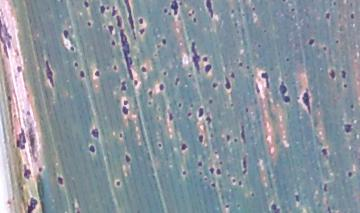tarspot: (115, 11, 132, 80), (1, 18, 14, 61), (187, 38, 202, 75), (26, 123, 40, 161), (43, 57, 58, 90), (277, 79, 293, 105), (123, 1, 135, 31), (300, 87, 312, 116), (15, 125, 27, 151), (202, 1, 218, 20), (259, 69, 272, 89), (238, 121, 248, 147), (87, 124, 102, 141), (21, 163, 33, 182), (25, 194, 37, 213), (341, 120, 355, 136), (170, 1, 180, 19), (319, 144, 330, 160), (240, 154, 248, 176), (222, 76, 232, 93), (118, 79, 128, 96), (122, 151, 133, 166), (327, 66, 338, 81), (86, 142, 98, 155), (76, 69, 89, 81), (89, 68, 103, 79), (58, 28, 72, 39), (118, 105, 132, 116), (159, 34, 169, 49), (268, 201, 280, 213), (209, 79, 221, 91), (105, 22, 116, 35), (165, 109, 175, 123), (4, 92, 14, 106), (293, 191, 302, 206), (54, 174, 65, 186), (195, 132, 206, 144), (222, 132, 233, 144), (222, 201, 233, 213), (287, 5, 299, 16), (347, 101, 358, 113), (241, 104, 252, 116), (247, 188, 258, 200), (172, 76, 184, 87), (15, 64, 25, 77), (97, 4, 107, 17), (136, 15, 146, 28), (319, 44, 330, 55), (248, 4, 259, 15), (203, 63, 213, 75), (204, 115, 214, 127), (282, 55, 294, 65), (339, 67, 347, 81), (323, 10, 333, 21), (208, 180, 219, 190), (116, 130, 127, 140), (340, 81, 351, 91), (190, 15, 200, 26), (162, 68, 171, 80), (245, 61, 254, 73), (307, 35, 315, 48), (321, 181, 329, 194), (207, 95, 215, 108), (138, 65, 148, 75), (154, 140, 164, 150), (158, 82, 167, 93), (348, 11, 357, 22), (215, 165, 222, 179), (114, 178, 122, 190), (197, 106, 205, 118), (208, 164, 215, 177), (121, 97, 131, 106), (81, 1, 90, 11), (234, 59, 243, 69), (145, 98, 155, 107), (333, 37, 342, 47), (179, 141, 187, 152), (346, 169, 354, 180), (181, 168, 189, 179), (230, 175, 237, 187), (237, 179, 243, 193), (111, 63, 120, 72), (139, 27, 148, 36), (185, 109, 194, 118), (196, 159, 204, 169), (161, 6, 169, 16), (147, 88, 155, 98), (86, 19, 93, 30), (108, 39, 116, 48), (68, 45, 76, 54), (26, 108, 32, 120), (72, 60, 80, 69), (176, 100, 184, 109), (38, 165, 46, 173), (132, 79, 141, 86), (203, 55, 209, 64)
